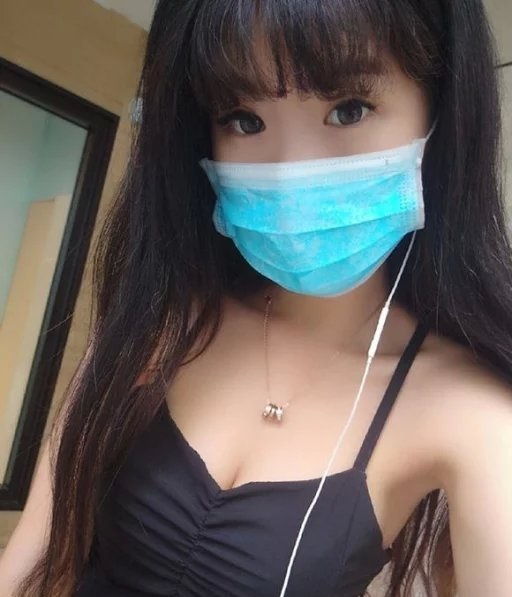face_mask: (208, 1, 421, 296)
